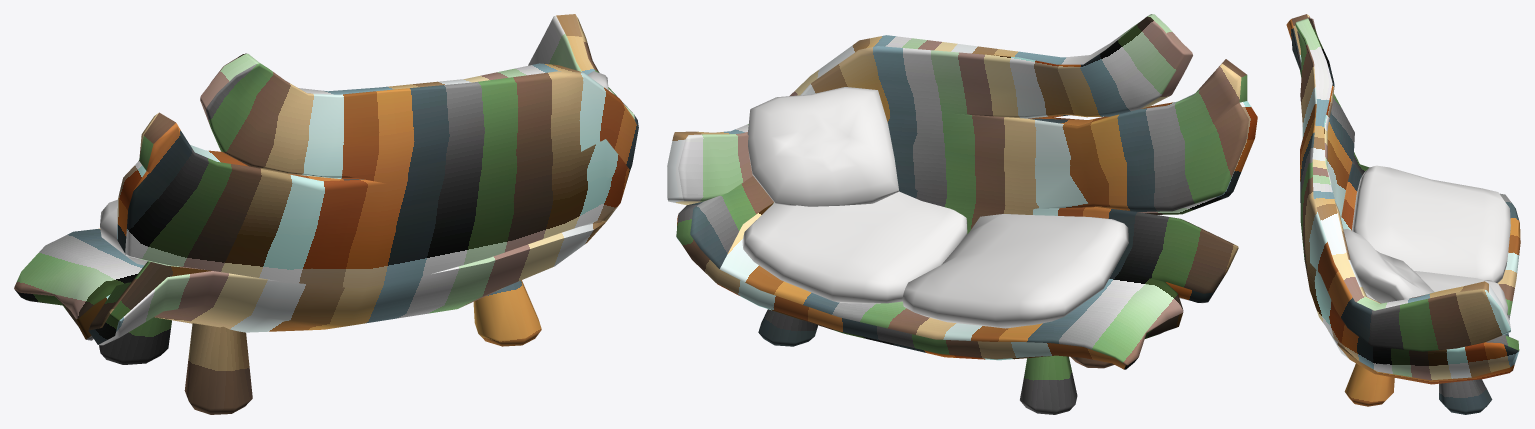
The model's file is P_AP22Loveseat.glb.
3 views of the same model, side by side, from view 1: azimuth 30°, elevation 25°; view 2: azimuth 150°, elevation 25°; view 3: azimuth 270°, elevation 25° (orthographic). The views are drawn at different scales.
Visible parts, largest first — view 1: P_AP22Loveseat; view 2: P_AP22Loveseat; view 3: P_AP22Loveseat.
Part boxes in pixels (<box>): P_AP22Loveseat: <box>14,14,638,414</box>; P_AP22Loveseat: <box>667,14,1257,414</box>; P_AP22Loveseat: <box>1286,14,1520,414</box>.
Bounding box in the file's own units: 2.01 × 1.29 × 0.996.
Materials: 1 (1 with a texture image).
